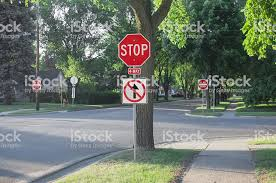Stop: (116, 38, 158, 74)
